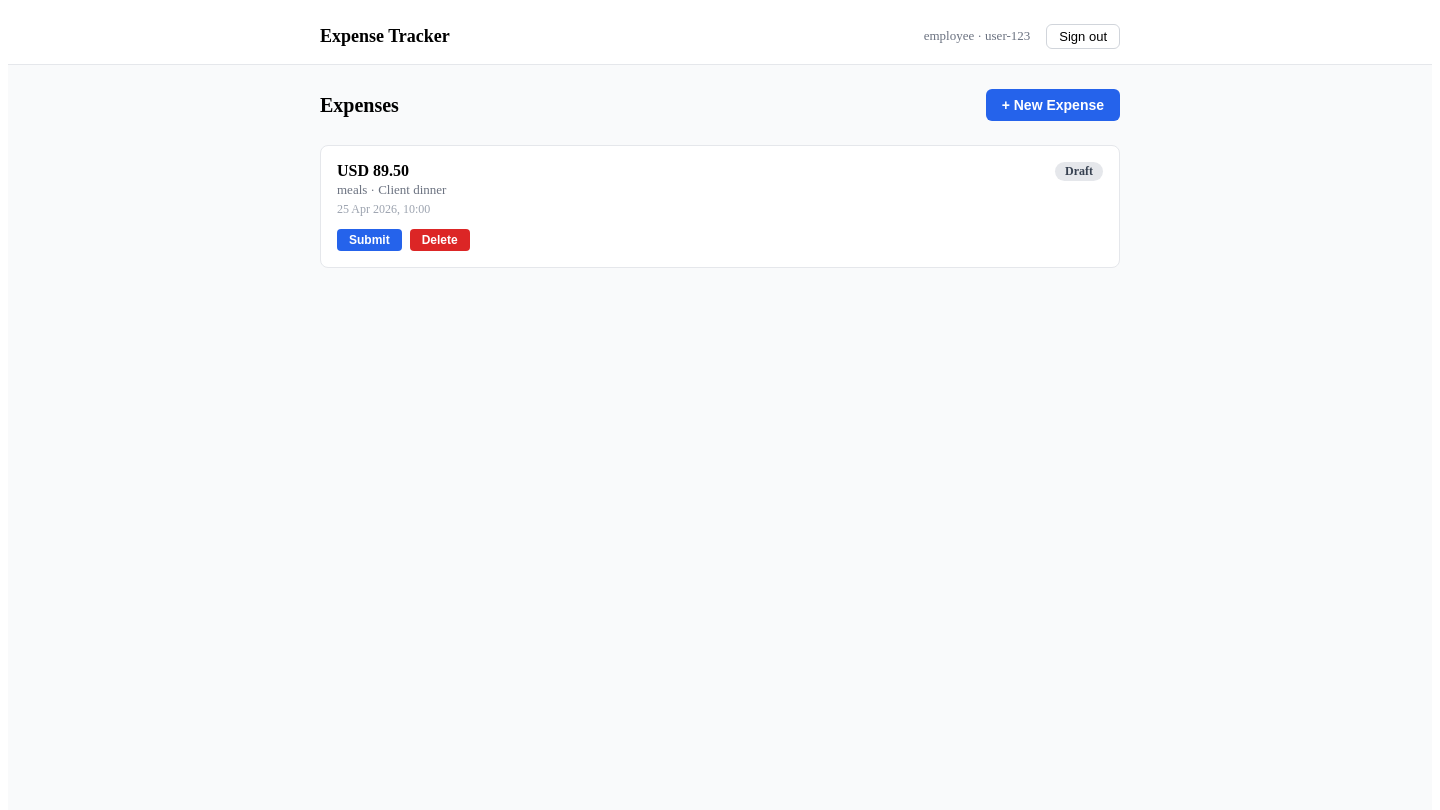
Create expense flow › shows the New Expense form when the button is clicked
What coordinates should you click on to do the following:
click the button "+ New Expense"
I would click on:
 (1053, 105)
Its box is [986, 89, 1120, 121].
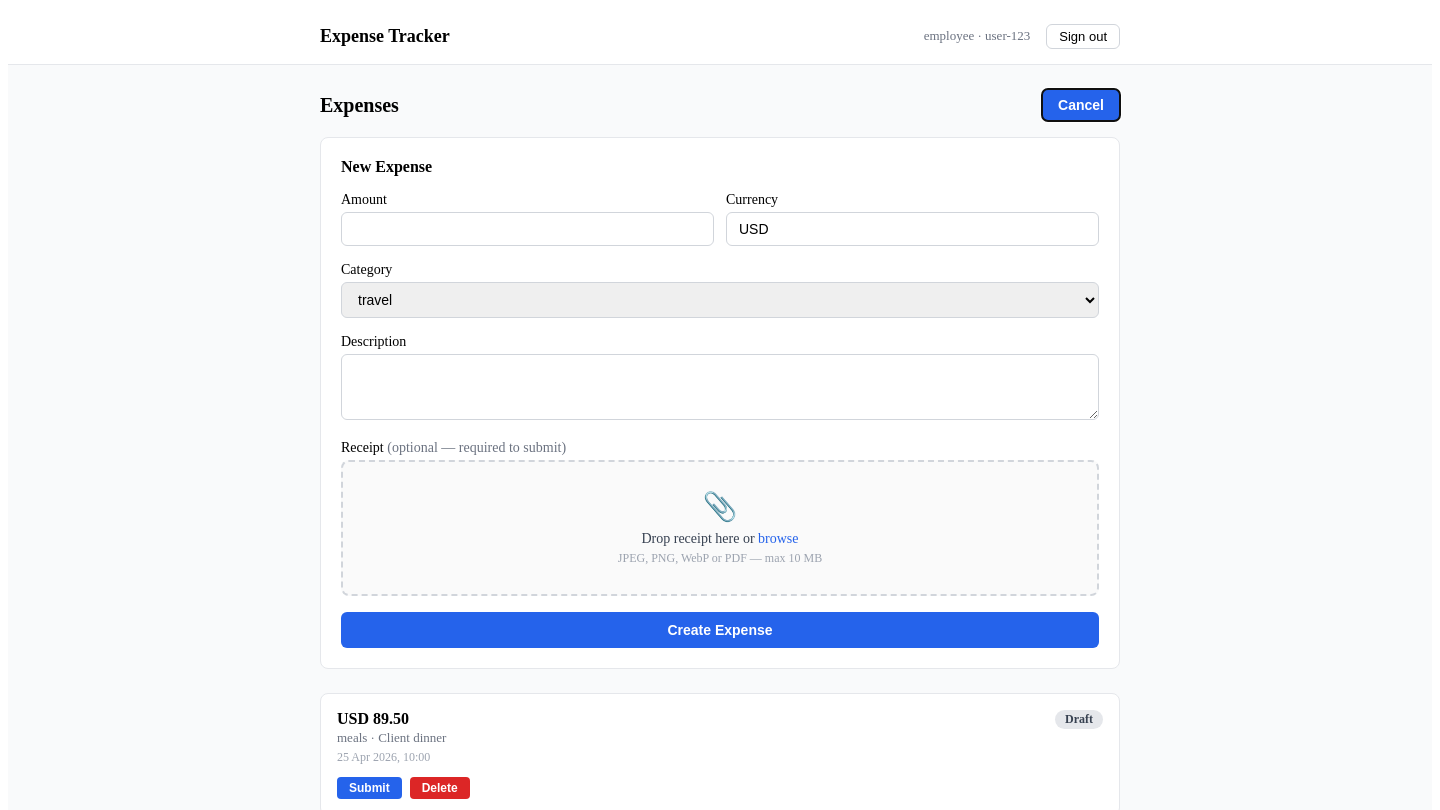
Now the button "Create Expense" is shown, box [341, 612, 1099, 648]
